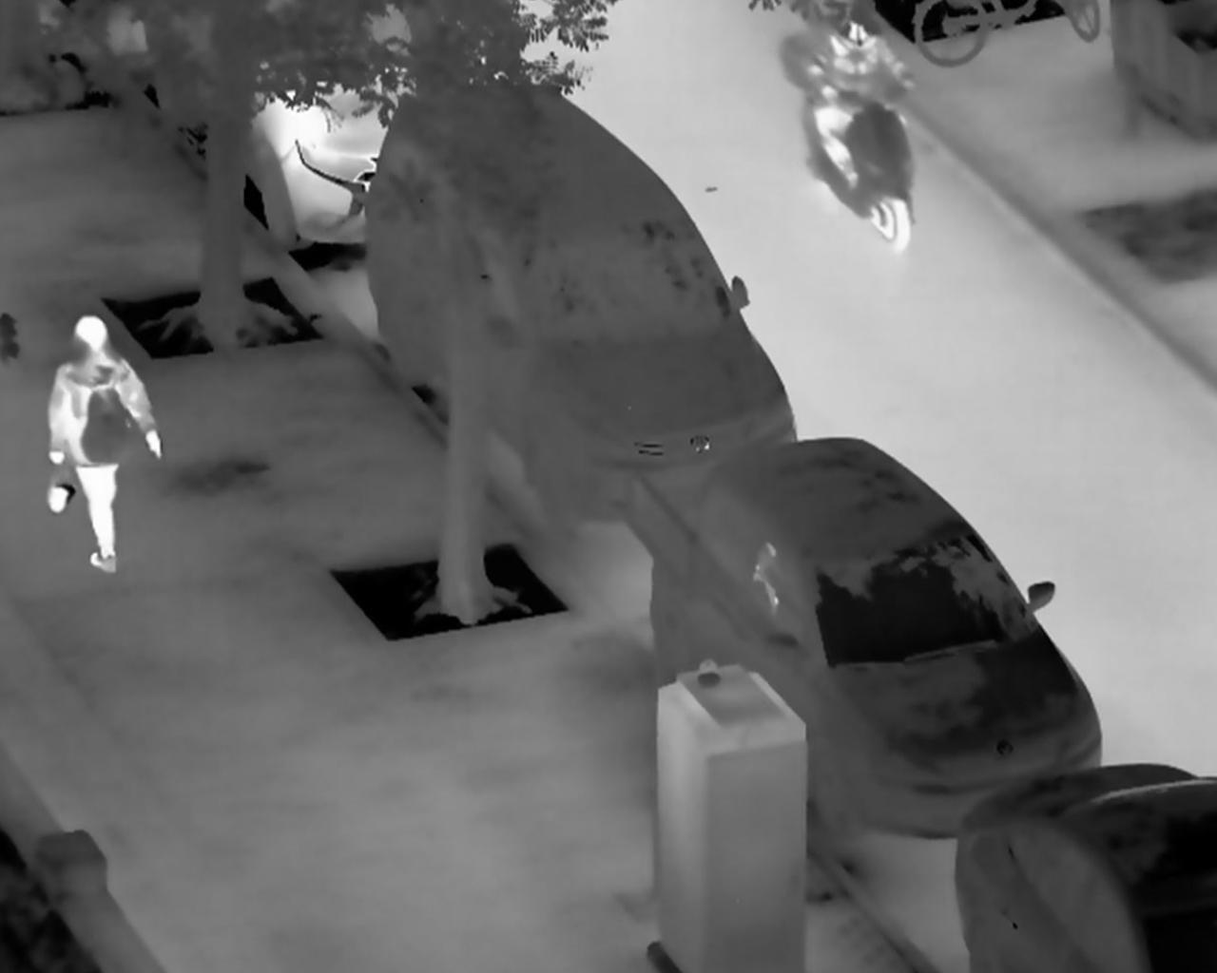person: (46, 313, 163, 574), (806, 4, 919, 188)
